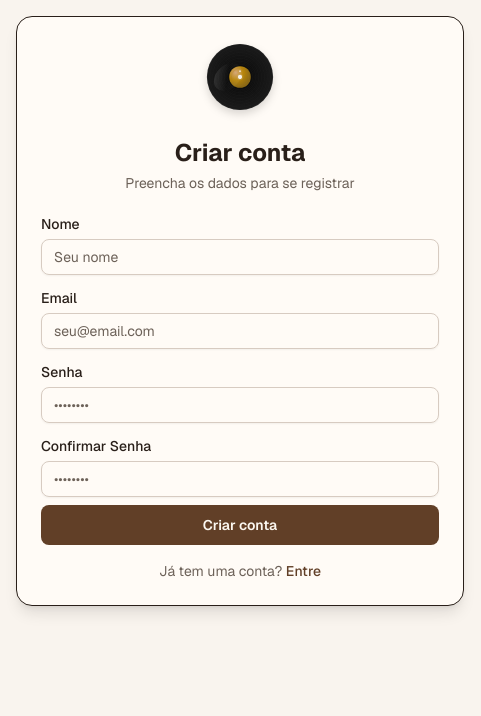
Test case: RegisterPage › validação de email › should show error for invalid email format
Type "Test User" into the field labelled "Nome" at {"x": 240, "y": 257}, box [41,239,439,275]
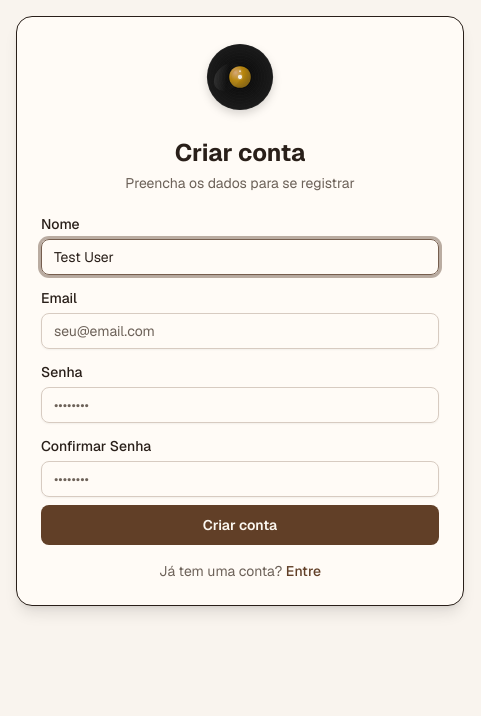
Type "test..test@test.com" into the field labelled "Email" at {"x": 240, "y": 331}, box [41,313,439,349]
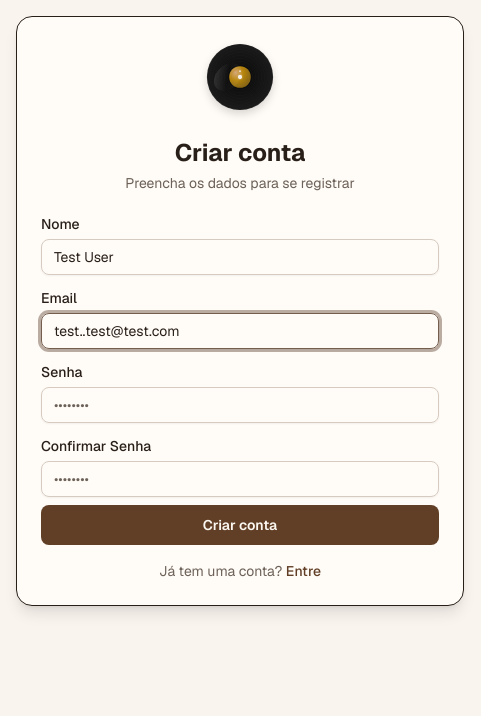
Click the button "Criar conta" at {"x": 240, "y": 525}, box [41,505,439,545]
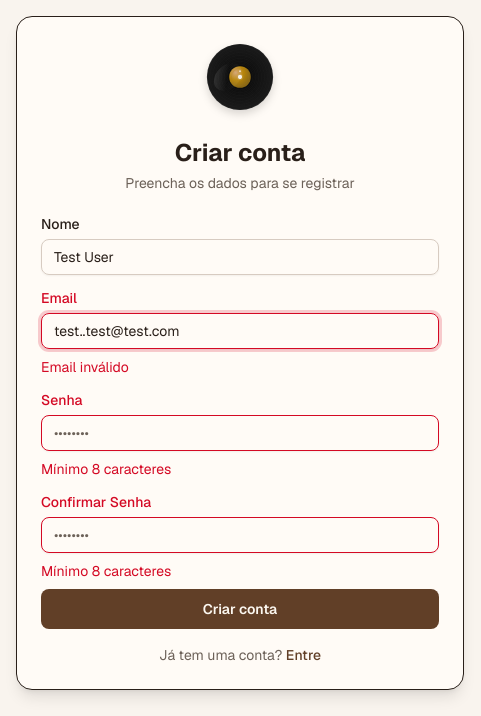
expect the text "Email inválido" is shown: met, box [41,358,129,376]
